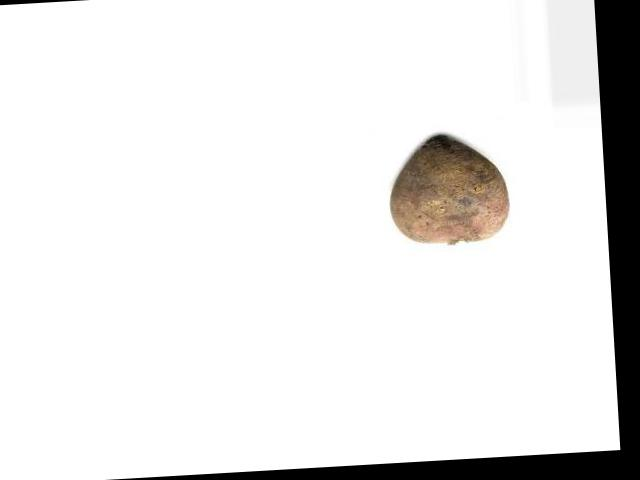beet: (385, 131, 512, 246)
